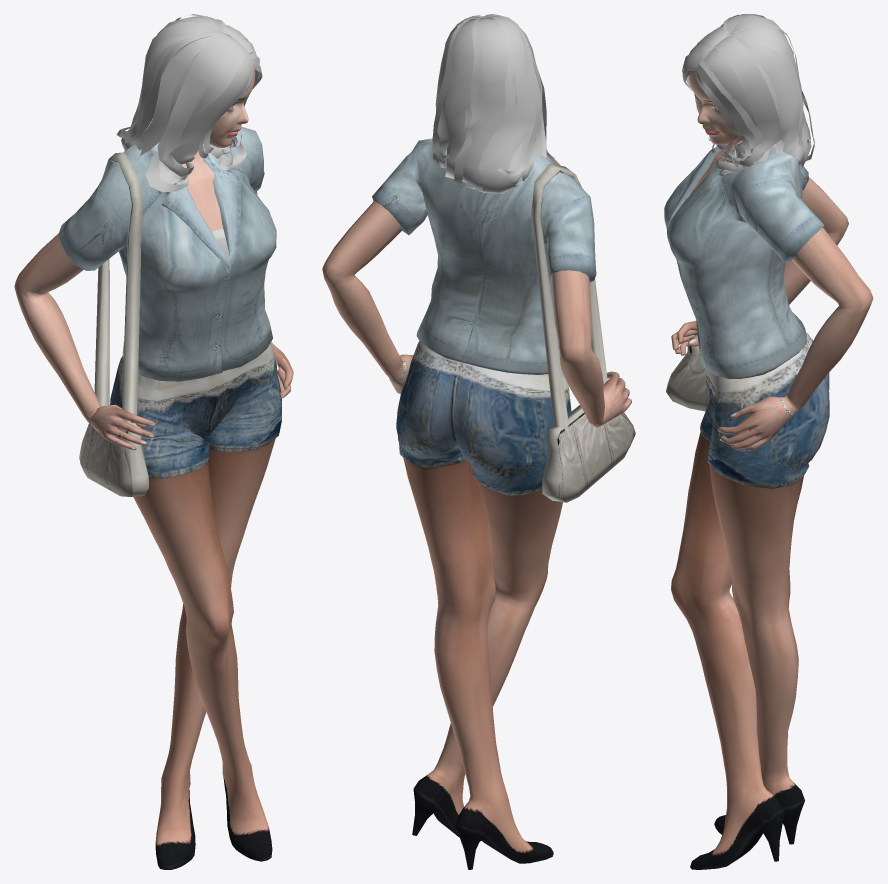
3 views of the same model, side by side, from view 1: azimuth 30°, elevation 25°; view 2: azimuth 150°, elevation 25°; view 3: azimuth 270°, elevation 25° (orthographic).
Visible parts, largest first — view 1: UA_f2-3; view 2: UA_f2-3; view 3: UA_f2-3.
Part boxes in pixels (x1=…): UA_f2-3: x1=14, y1=14, x2=293, y2=869; UA_f2-3: x1=322, y1=14, x2=635, y2=869; UA_f2-3: x1=664, y1=14, x2=873, y2=869.
Size of the model in its own units: 54.61 by 174 by 39.85.
